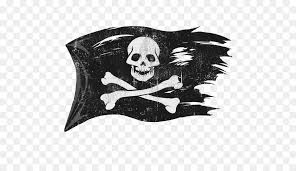Jolly Roger Flag: (57, 23, 235, 126)
